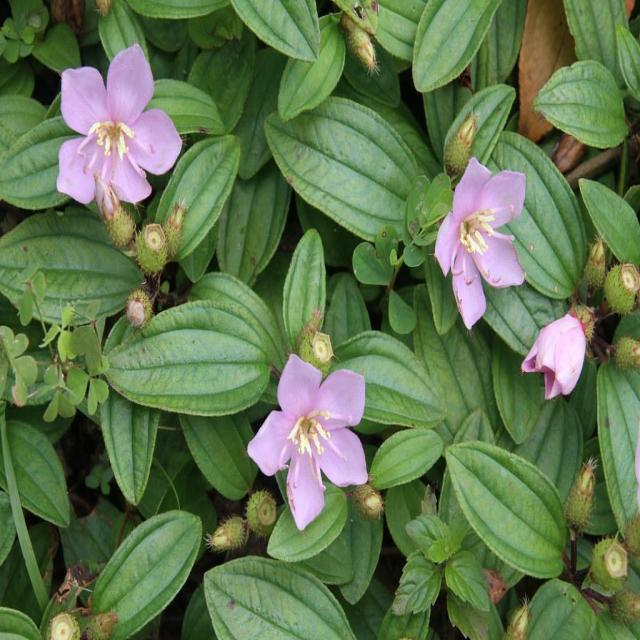organic waste: (244, 346, 392, 528), (52, 42, 186, 220), (433, 157, 529, 320), (528, 314, 592, 408)
